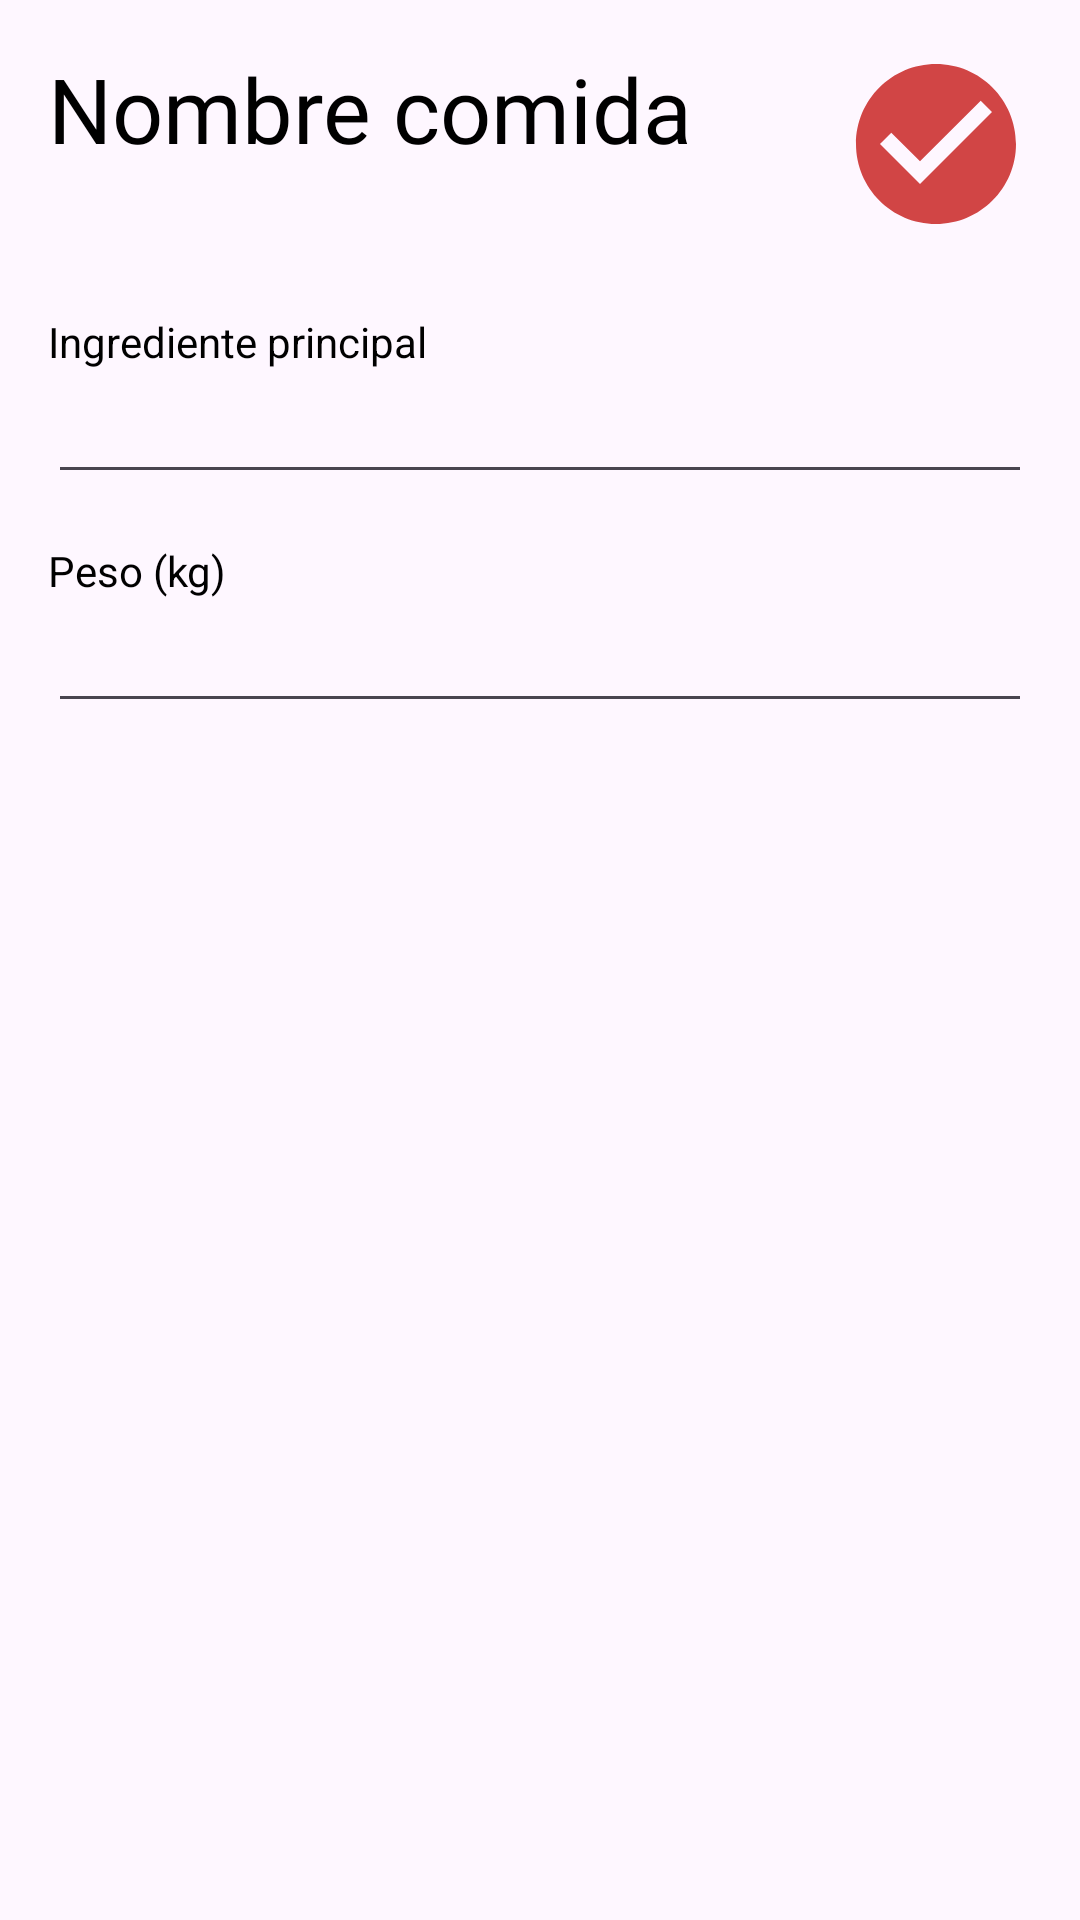

Icons on this 1080*1920 Android screen, each with the point to tap as [x,y]:
accept edit: [936,144]
